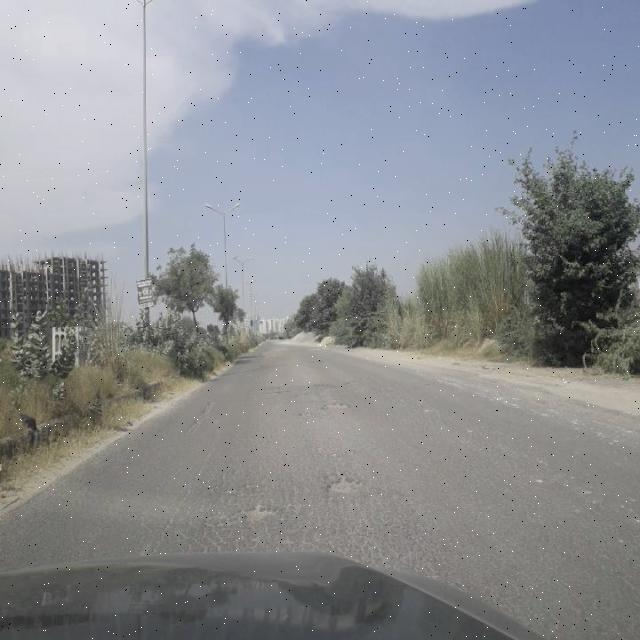D00: (155, 447, 214, 549), (188, 390, 217, 438)
D20: (18, 372, 640, 624)
D40: (234, 498, 290, 525), (322, 473, 371, 498), (320, 392, 353, 420), (263, 381, 302, 398), (295, 406, 316, 424)
D44: (414, 363, 636, 441)
